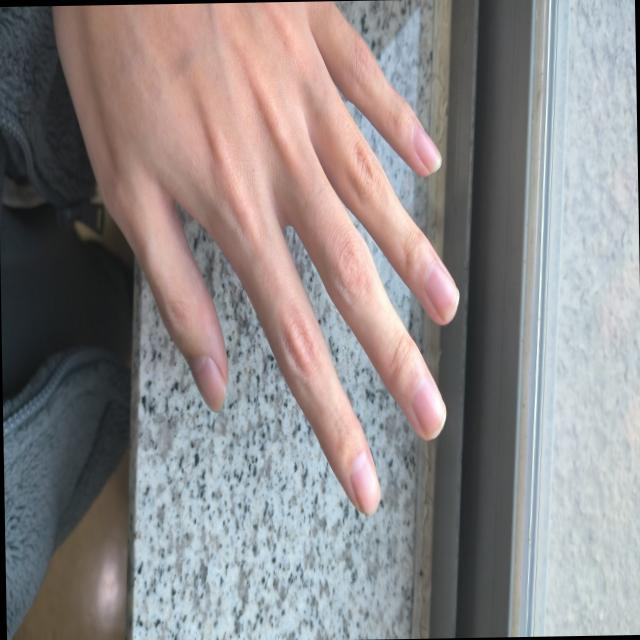Nail: (411, 371, 445, 437), (185, 355, 224, 411), (424, 260, 458, 320), (349, 451, 380, 515), (412, 123, 440, 171)
